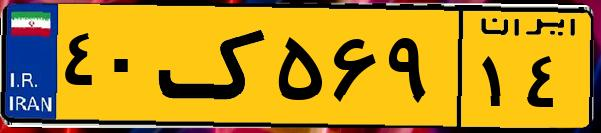0: (110, 28, 158, 98)
1: (475, 38, 525, 113)
4: (57, 26, 110, 100), (525, 38, 570, 115)
5: (270, 28, 330, 110)
6: (330, 28, 385, 110)
9: (385, 28, 445, 110)
ک: (158, 12, 270, 120)
